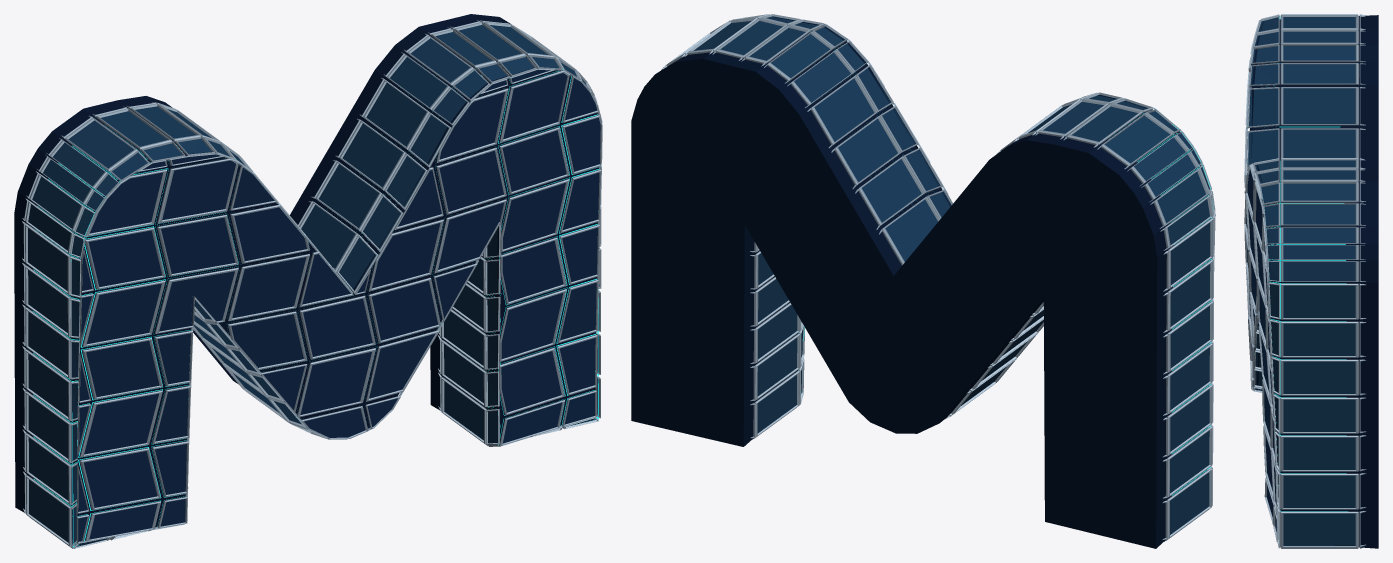
Rendered from hero-plates-armor-m.web.glb.
3 renders of one model, left to right at view 1: azimuth 30°, elevation 25°; view 2: azimuth 150°, elevation 25°; view 3: azimuth 270°, elevation 25°, orthographic. The views are drawn at different scales.
Parts seen in each view (by area): view 1: Continuous deep recessed chassis, Rigid_flush_armor_01, Rigid_flush_armor_00, Rigid_flush_armor_13, Rigid_flush_armor_09, Rigid_flush_armor_11, Rigid_flush_armor_03, Rigid_flush_armor_15, Rigid_flush_armor_05, Rigid_flush_armor_12, Rigid_flush_armor_07, Rigid_flush_armor_02 (+9 smaller); view 2: Continuous deep recessed chassis, Rigid_flush_armor_00, Rigid_flush_armor_12, Rigid_flush_armor_09, Rigid_flush_armor_11, Rigid_flush_armor_10, Rigid_flush_armor_08, Rigid_flush_armor_01, Rigid_flush_armor_02, Rigid_flush_armor_13, Rigid_flush_armor_03, Rigid_flush_armor_14 (+2 smaller); view 3: Rigid_flush_armor_15, Continuous deep recessed chassis, Rigid_flush_armor_04, Rigid_flush_armor_05, Rigid_flush_armor_14, Rigid_flush_armor_13, Rigid_flush_armor_06, Rigid_flush_armor_03, Rigid_flush_armor_02, Rigid_flush_armor_11, Rigid_flush_armor_12, Traveling_seam_15 (+2 smaller).
Boxes of the visible parts, x1=… form: Continuous deep recessed chassis: x1=14, y1=14, x2=598, y2=539; Rigid_flush_armor_01: x1=61, y1=115, x2=166, y2=541; Rigid_flush_armor_00: x1=22, y1=138, x2=118, y2=548; Rigid_flush_armor_13: x1=448, y1=20, x2=569, y2=446; Rigid_flush_armor_09: x1=311, y1=118, x2=443, y2=401; Rigid_flush_armor_11: x1=383, y1=33, x2=508, y2=322; Rigid_flush_armor_03: x1=127, y1=102, x2=238, y2=520; Rigid_flush_armor_15: x1=557, y1=70, x2=602, y2=429; Rigid_flush_armor_05: x1=193, y1=158, x2=309, y2=401; Rigid_flush_armor_12: x1=428, y1=27, x2=510, y2=444; Rigid_flush_armor_07: x1=297, y1=263, x2=375, y2=439; Rigid_flush_armor_02: x1=92, y1=106, x2=192, y2=531; Continuous deep recessed chassis: x1=631, y1=16, x2=1211, y2=548; Rigid_flush_armor_00: x1=1127, y1=131, x2=1215, y2=541; Rigid_flush_armor_12: x1=741, y1=19, x2=838, y2=438; Rigid_flush_armor_09: x1=831, y1=106, x2=947, y2=229; Rigid_flush_armor_11: x1=764, y1=24, x2=884, y2=107; Rigid_flush_armor_10: x1=807, y1=64, x2=930, y2=162; Rigid_flush_armor_08: x1=879, y1=189, x2=953, y2=265; Rigid_flush_armor_01: x1=1097, y1=109, x2=1202, y2=169; Rigid_flush_armor_02: x1=1063, y1=98, x2=1155, y2=147; Rigid_flush_armor_13: x1=712, y1=14, x2=801, y2=439; Rigid_flush_armor_03: x1=1032, y1=92, x2=1123, y2=314; Rigid_flush_armor_14: x1=664, y1=14, x2=769, y2=68; Rigid_flush_armor_15: x1=1262, y1=217, x2=1366, y2=548; Continuous deep recessed chassis: x1=1249, y1=15, x2=1378, y2=548; Rigid_flush_armor_04: x1=1245, y1=44, x2=1365, y2=125; Rigid_flush_armor_05: x1=1244, y1=87, x2=1365, y2=193; Rigid_flush_armor_14: x1=1260, y1=181, x2=1365, y2=227; Rigid_flush_armor_13: x1=1254, y1=168, x2=1365, y2=524; Rigid_flush_armor_06: x1=1245, y1=128, x2=1365, y2=359; Rigid_flush_armor_03: x1=1248, y1=27, x2=1365, y2=87; Rigid_flush_armor_02: x1=1256, y1=15, x2=1365, y2=33; Rigid_flush_armor_11: x1=1245, y1=158, x2=1364, y2=343; Rigid_flush_armor_12: x1=1250, y1=158, x2=1365, y2=477; Traveling_seam_15: x1=1268, y1=227, x2=1347, y2=511.
Bounding box in the file's own units: 4.47 × 3.09 × 1.11.
